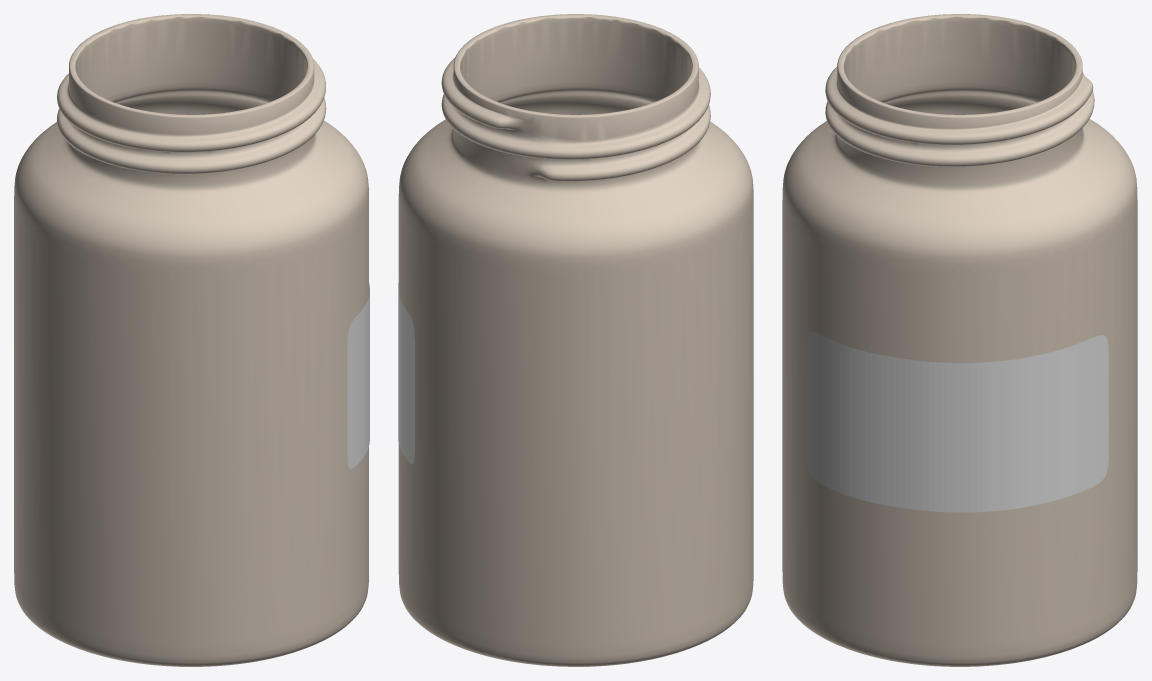
3 renders of one model, left to right at view 1: azimuth 30°, elevation 25°; view 2: azimuth 150°, elevation 25°; view 3: azimuth 270°, elevation 25°, orthographic.
Parts seen in each view (by area): view 1: Vial - Scintillation - 20 mL, Plane; view 2: Vial - Scintillation - 20 mL, Plane; view 3: Vial - Scintillation - 20 mL, Plane.
Boxes of the visible parts, box(x1,y1,x2,y2) form: Vial - Scintillation - 20 mL: box(14, 14, 368, 666); Plane: box(347, 283, 369, 468); Vial - Scintillation - 20 mL: box(398, 14, 753, 666); Plane: box(398, 283, 414, 464); Vial - Scintillation - 20 mL: box(782, 14, 1137, 666); Plane: box(805, 331, 1108, 512).
Bounding box in the file's own units: 155 × 255 × 154.
